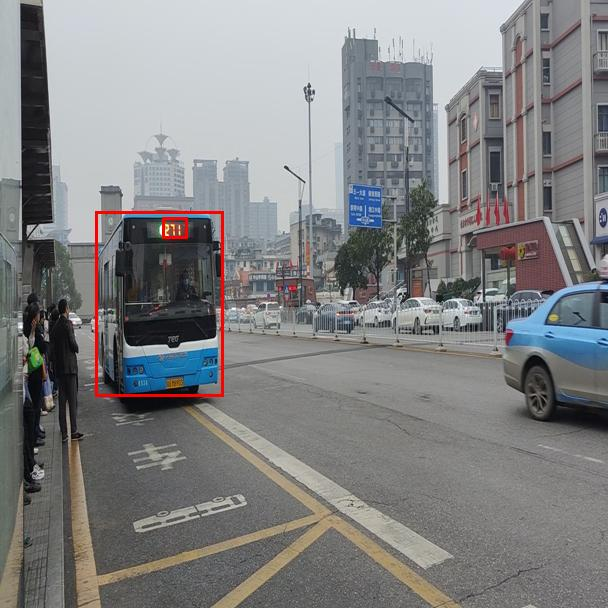bus: (95, 211, 223, 396)
screen: (162, 217, 187, 238)
